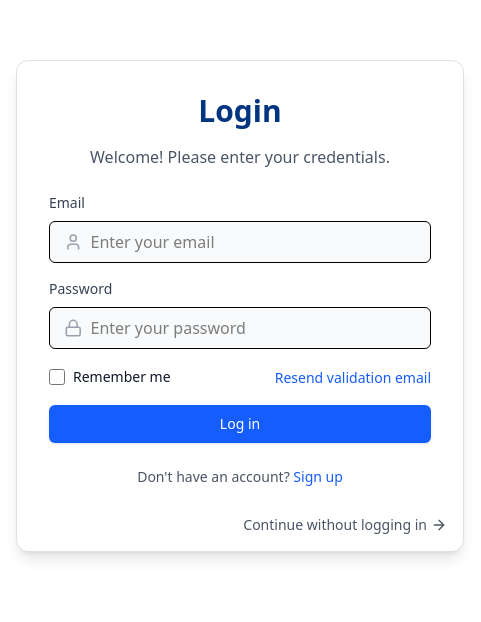
Test: Login Component › should display an error message when form is submitted with empty fields
Click the button "Log in".
click(240, 424)  # box [49,405,431,443]
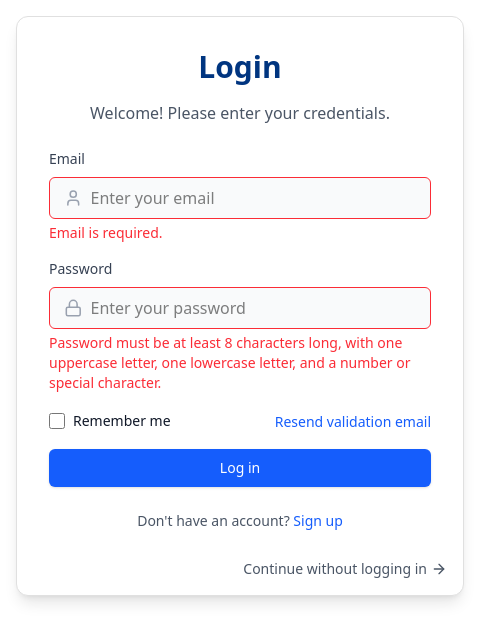
Now the text "Email is required." is shown, box [49,223,163,242]
Now the text "Password must be at least 8 characters long" is shown, box [49,333,410,392]
